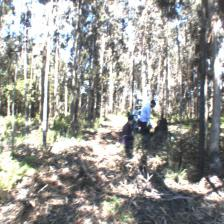trunktrack_idkeyframe: (209, 67, 221, 154), (198, 64, 206, 168)
